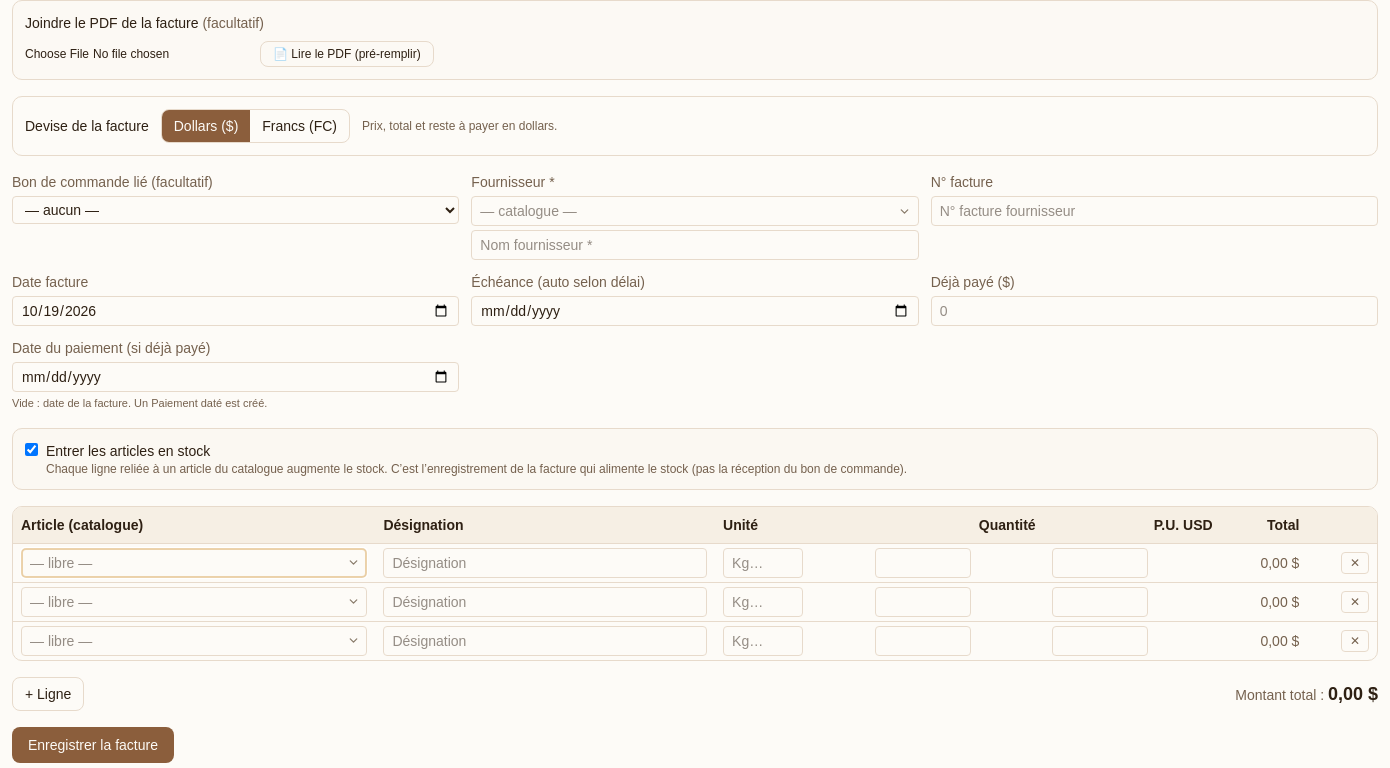
Test case: Factures › le choix d'article montre le libellé ; la désignation pré-remplie de la ligne reste la désignation brute
Click the 1st dropdown with placeholder "— libre —": (194, 563) [21,548,367,578]
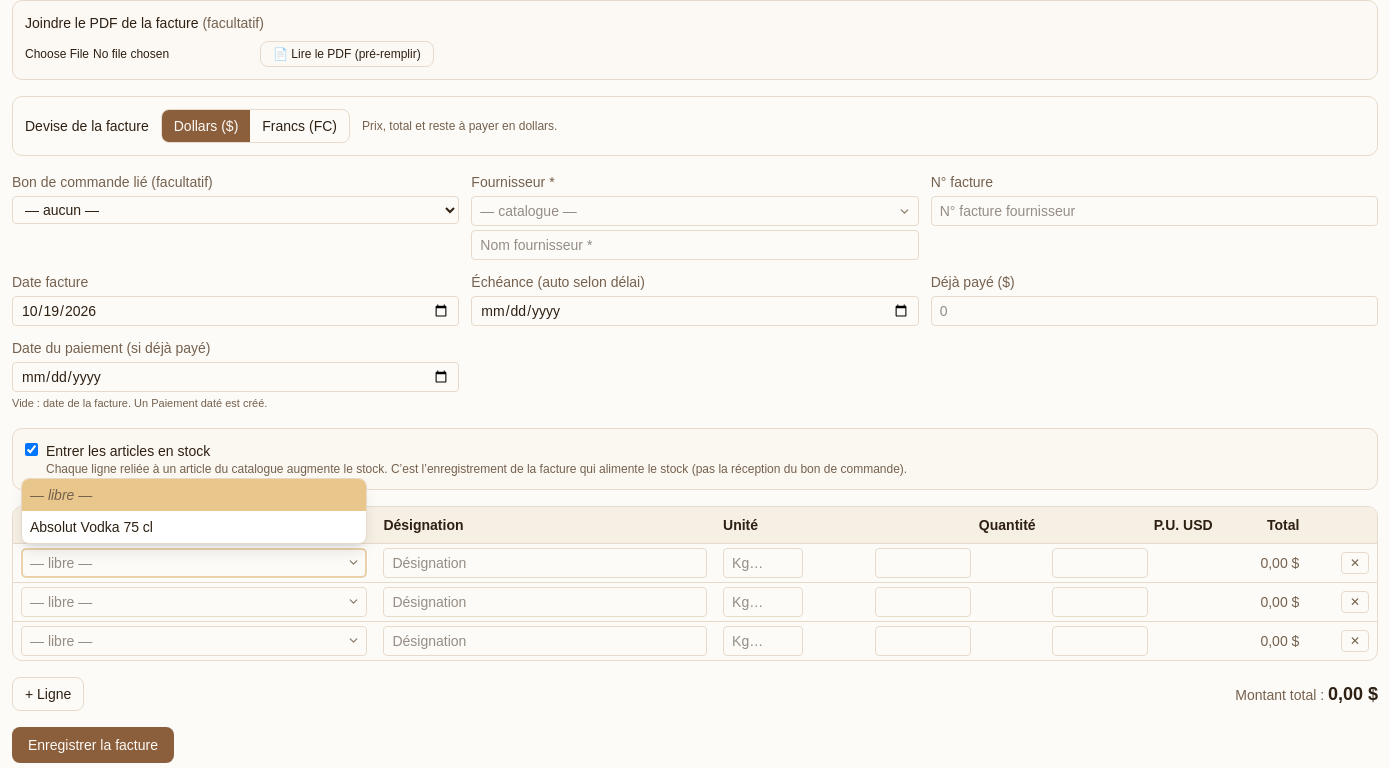
Click the option "Absolut Vodka 75 cl": (92, 527) [30,519,153,535]
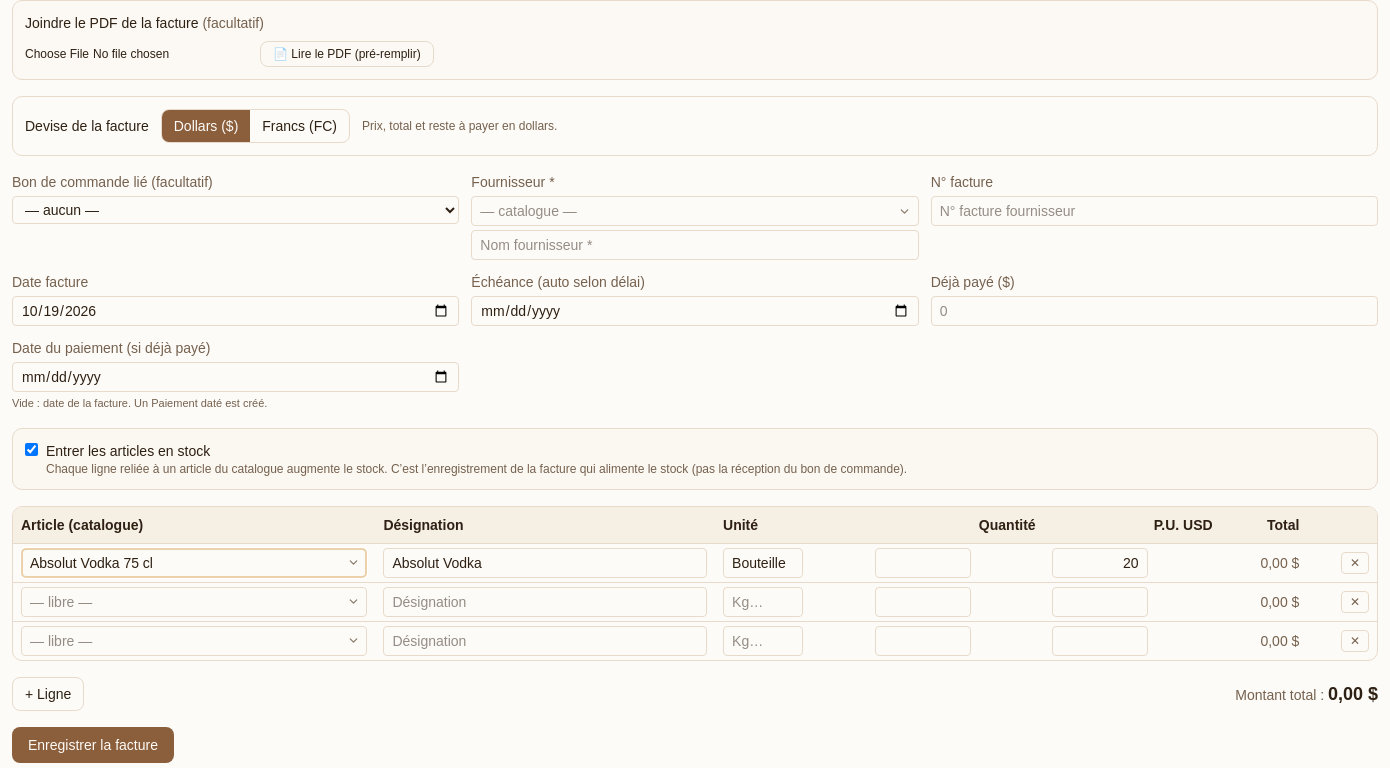
Expected: the dropdown named "Article, ligne 1" holds "Absolut Vodka 75 cl", [21,548,367,578]
Expected: the 1st field named "ligne_designation" holds "Absolut Vodka", [383,548,707,578]
